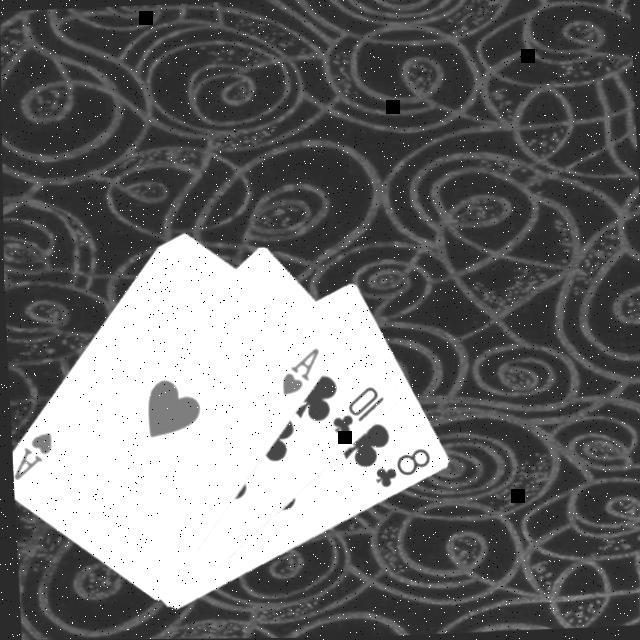10C: (326, 384, 389, 442)
8C: (370, 446, 435, 494)
AH: (8, 430, 58, 486), (276, 346, 325, 401)
